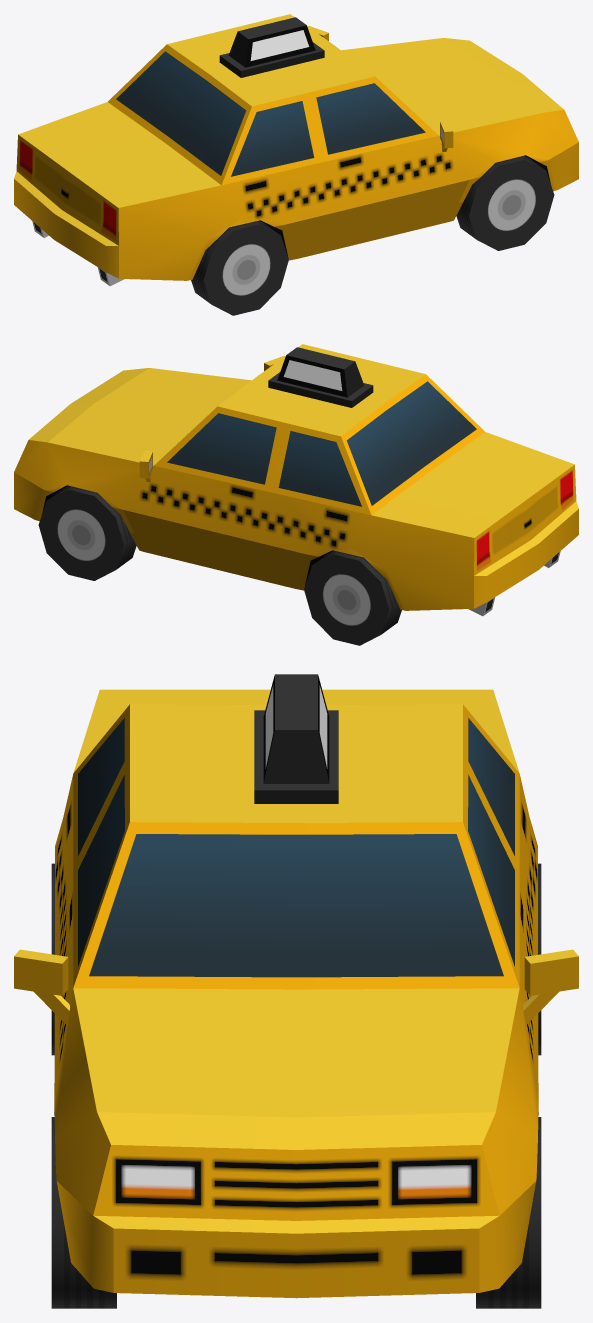
File: Car_033.glb
3 renders of one model, top to bottom at view 1: azimuth 30°, elevation 25°; view 2: azimuth 150°, elevation 25°; view 3: azimuth 270°, elevation 25°, orthographic. The views are drawn at different scales.
Parts seen in each view (by area): view 1: Car_033, wheel_3_Car_033_Wheel_2R, wheel_1_Car_033_Wheel_1R; view 2: Car_033, wheel_2_Car_033_Wheel_2L, wheel_0_Car_033_Wheel_1L; view 3: Car_033, wheel_0_Car_033_Wheel_1L, wheel_1_Car_033_Wheel_1R.
Boxes of the visible parts, <box> form: Car_033: <box>14,14,578,286</box>; wheel_3_Car_033_Wheel_2R: <box>191,220,288,315</box>; wheel_1_Car_033_Wheel_1R: <box>456,155,554,250</box>; Car_033: <box>14,344,578,616</box>; wheel_2_Car_033_Wheel_2L: <box>304,550,401,645</box>; wheel_0_Car_033_Wheel_1L: <box>38,485,136,580</box>; Car_033: <box>14,674,578,1298</box>; wheel_0_Car_033_Wheel_1L: <box>476,1117,541,1308</box>; wheel_1_Car_033_Wheel_1R: <box>51,1117,116,1308</box>.
Size of the model in its own units: 4.11 by 1.76 by 2.13.
1 material, 1 textured.
